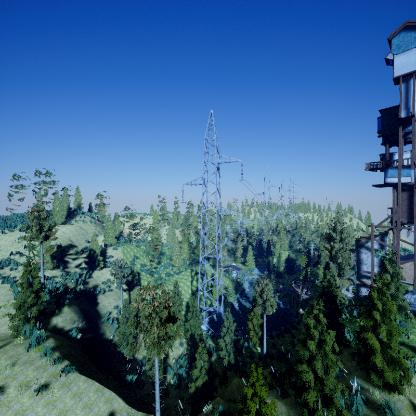tower: (178, 110, 247, 334)
